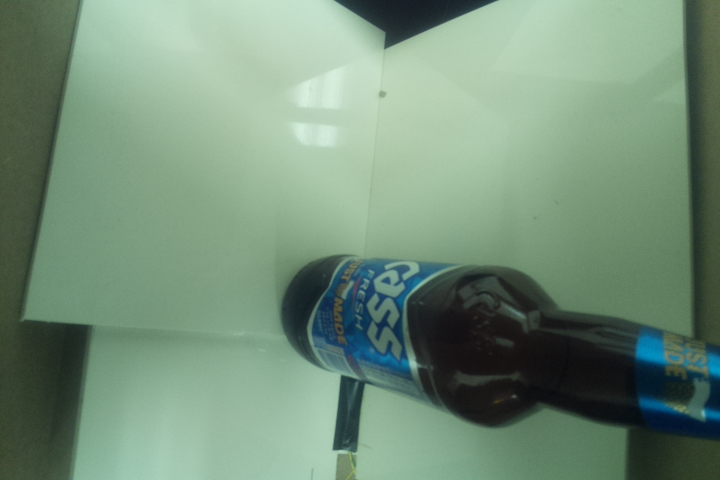makju: (279, 250, 720, 448)
